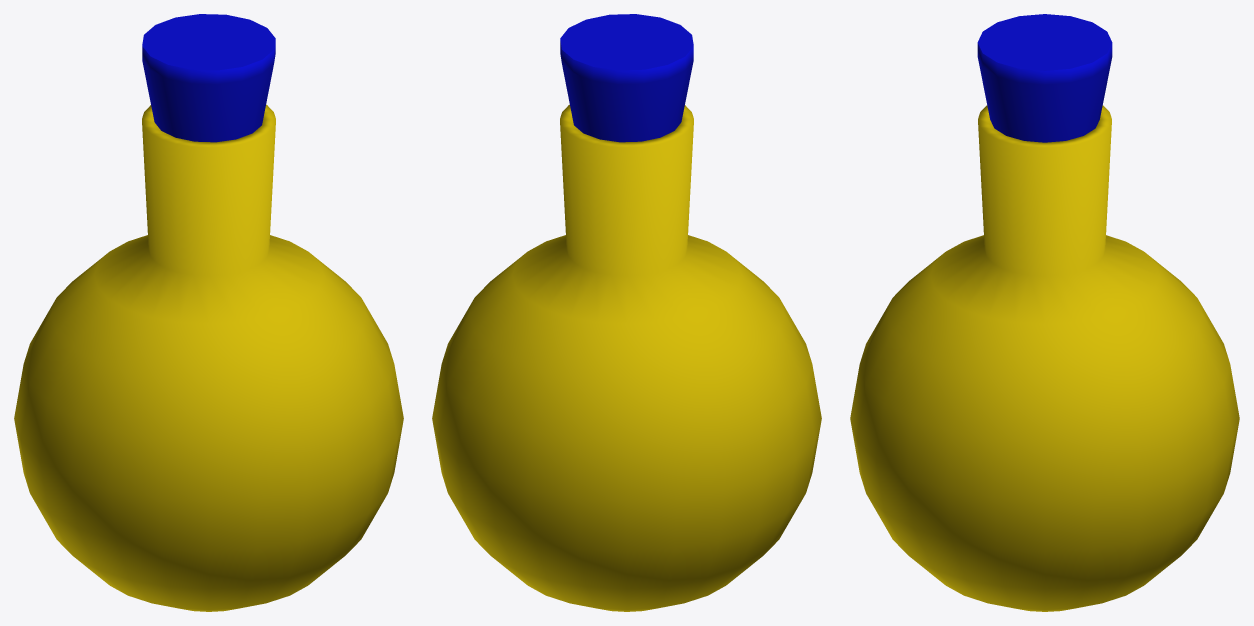
The model's file is energy.fbx.
3 views of the same model, side by side, from view 1: azimuth 30°, elevation 25°; view 2: azimuth 150°, elevation 25°; view 3: azimuth 270°, elevation 25° (orthographic).
Visible parts, largest first — view 1: Sphere, Cylinder; view 2: Sphere, Cylinder; view 3: Sphere, Cylinder.
Part boxes in pixels (left/top/right/bottom): Sphere: left=14, top=104, right=403, bottom=611; Cylinder: left=142, top=14, right=275, bottom=142; Sphere: left=432, top=104, right=821, bottom=611; Cylinder: left=560, top=14, right=693, bottom=142; Sphere: left=850, top=105, right=1239, bottom=611; Cylinder: left=977, top=14, right=1112, bottom=142.
Size of the model in its own units: 200 by 313 by 200.
